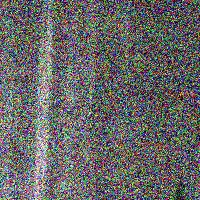inclusion: (170, 171, 188, 200)
scratches: (58, 30, 92, 192), (32, 0, 55, 198)
